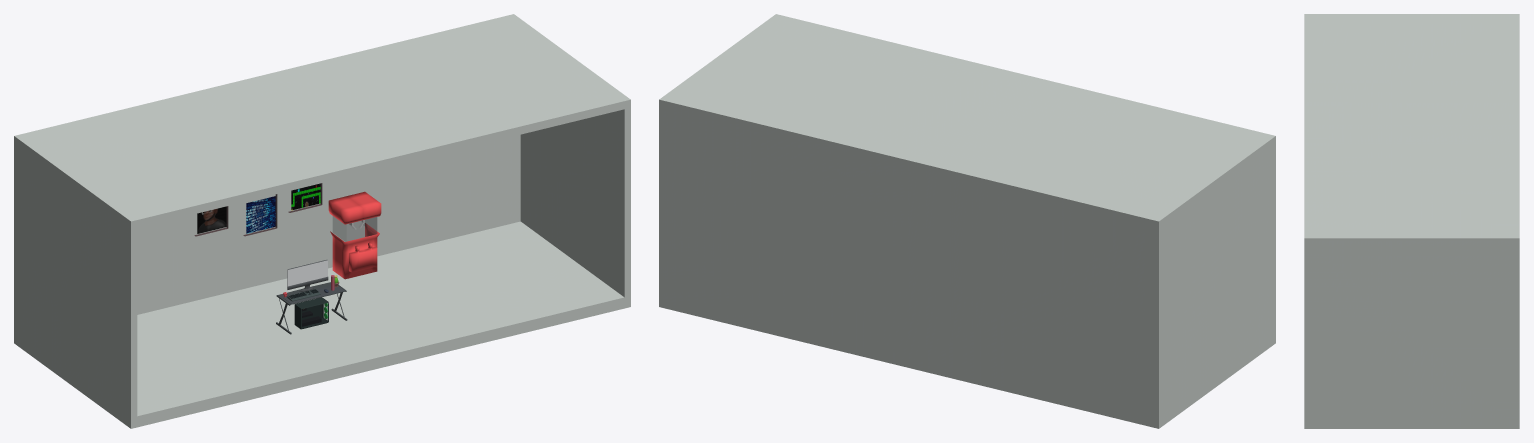
Rendered from portfolio_animated-transformed.glb.
3 views of the same model, side by side, from view 1: azimuth 30°, elevation 25°; view 2: azimuth 150°, elevation 25°; view 3: azimuth 270°, elevation 25° (orthographic). The views are drawn at different scales.
Visible parts, largest first — view 1: Room, ArcadeCabinet, Painting.001, GlassCabinet, Painting, Painting.002, PC, Screen; view 2: Room; view 3: Room.
Part boxes in pixels (bbox=[...]): Room: bbox=[14, 14, 630, 428]; ArcadeCabinet: bbox=[328, 191, 381, 279]; Painting.001: bbox=[243, 194, 277, 236]; GlassCabinet: bbox=[333, 216, 377, 241]; Painting: bbox=[194, 206, 228, 236]; Painting.002: bbox=[288, 183, 322, 212]; PC: bbox=[294, 297, 328, 329]; Screen: bbox=[287, 260, 327, 286]; Room: bbox=[659, 14, 1275, 428]; Room: bbox=[1304, 14, 1519, 428].
Size of the model in its own units: 175 by 69.26 by 70.79.
7 materials, 7 textured.
